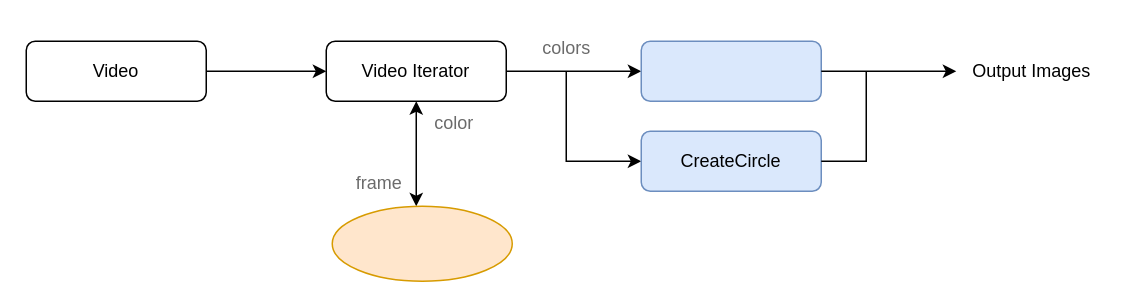
Image size: 1133x308. Some labels were removed from this diagram. Each missing label, with the centre of its shape:
CreateBars: (x=730, y=70)
GetDominateColor: (x=421, y=243)
